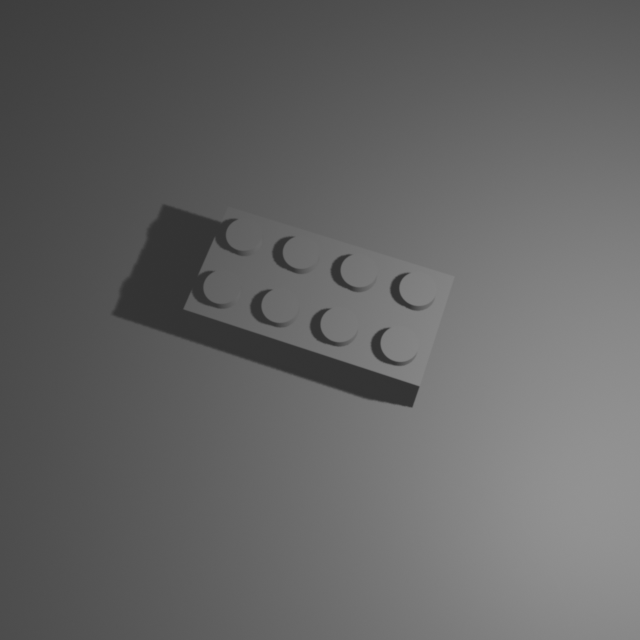lego_2x4: (181, 201, 456, 408)
